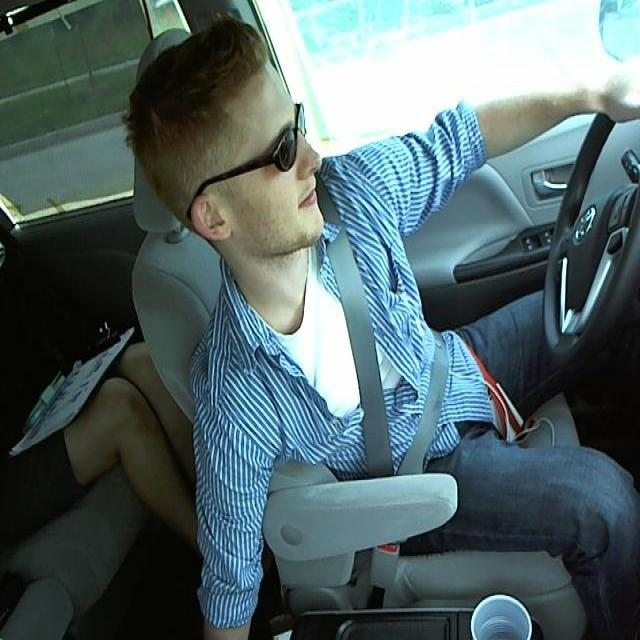seatbelt: (322, 218, 456, 471)
